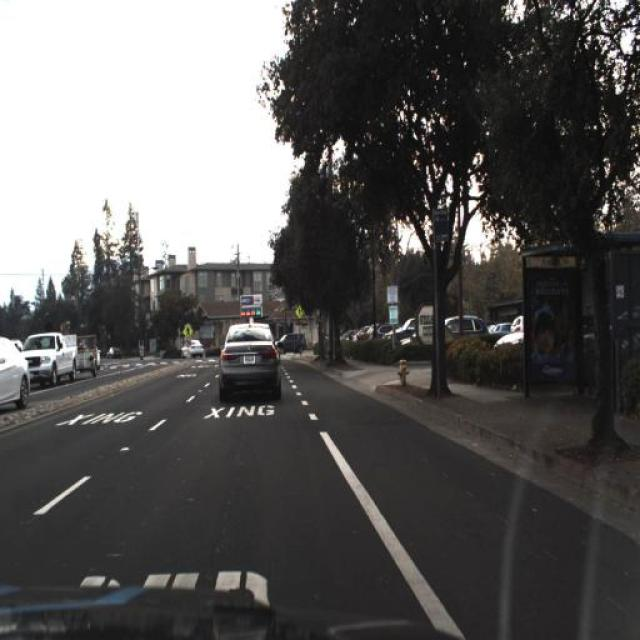car: (218, 314, 282, 404), (22, 332, 98, 384), (0, 332, 31, 412), (438, 303, 492, 348), (384, 310, 420, 351), (274, 324, 308, 364), (178, 326, 207, 369), (506, 302, 526, 352), (181, 328, 205, 362), (106, 341, 125, 361)
